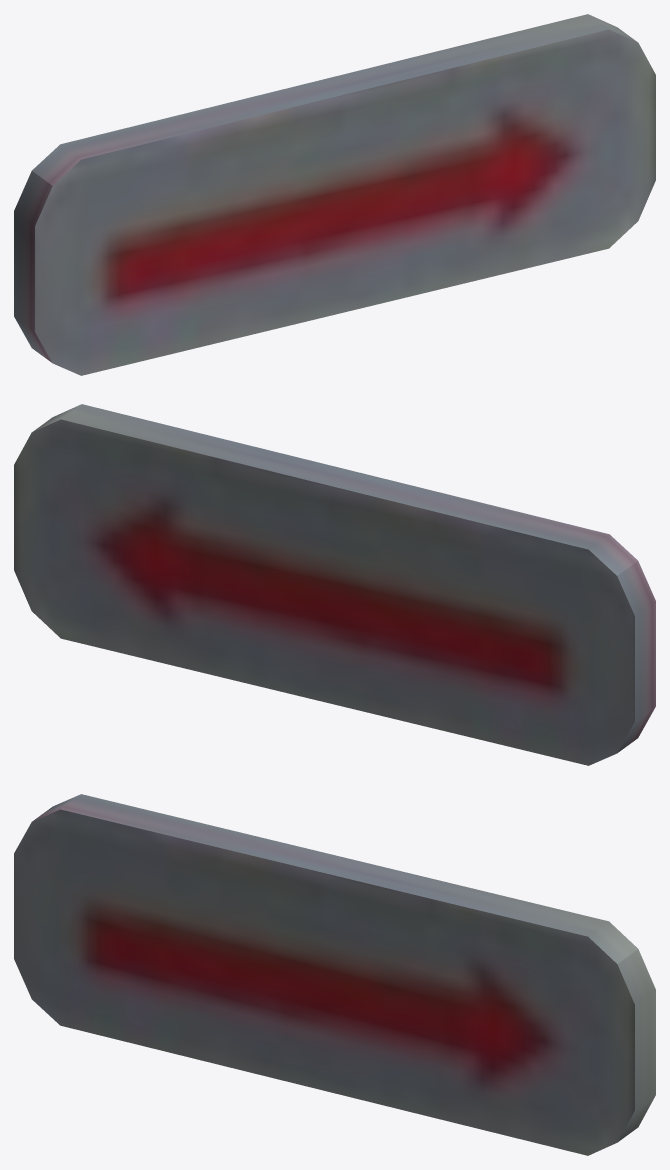
Rendered from SignArrow.fbx.
3 views of the same model, one above another, from view 1: azimuth 30°, elevation 25°; view 2: azimuth 150°, elevation 25°; view 3: azimuth 330°, elevation 25° (orthographic).
Parts seen in each view (by area): view 1: SignArrow; view 2: SignArrow; view 3: SignArrow.
Part boxes in pixels (left/top/right/bottom): SignArrow: left=14, top=14, right=655, bottom=375; SignArrow: left=14, top=404, right=655, bottom=765; SignArrow: left=14, top=794, right=655, bottom=1155.
Bounding box in the file's own units: 260 × 87.74 × 15.21.
1 material, 1 textured.
